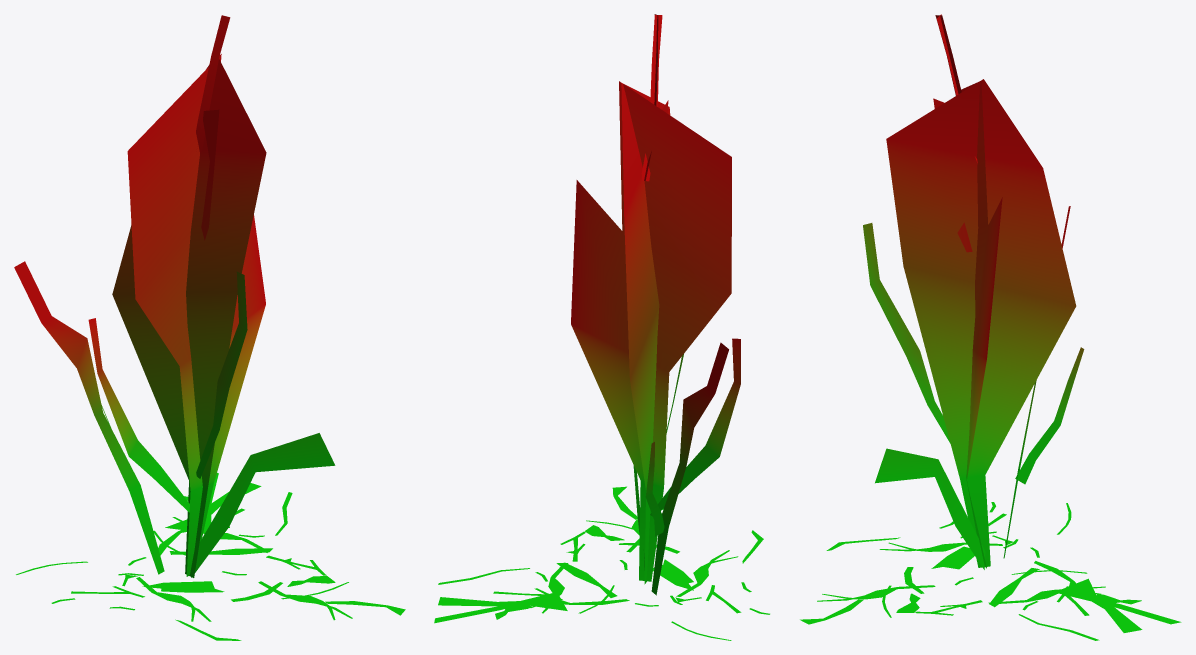
Rendered from Dead Shrubs_LOD1_Var6_vdknbbuha.fbx.
3 renders of one model, left to right at view 1: azimuth 30°, elevation 25°; view 2: azimuth 150°, elevation 25°; view 3: azimuth 270°, elevation 25°, orthographic. The views are drawn at different scales.
Parts seen in each view (by area): view 1: _5oiw_Var6_LOD1; view 2: _5oiw_Var6_LOD1; view 3: _5oiw_Var6_LOD1.
Part boxes in pixels (bbox=[...]): _5oiw_Var6_LOD1: bbox=[14, 15, 405, 640]; _5oiw_Var6_LOD1: bbox=[434, 14, 769, 640]; _5oiw_Var6_LOD1: bbox=[800, 14, 1181, 640].
Size of the model in its own units: 36.43 by 68.42 by 42.33.
